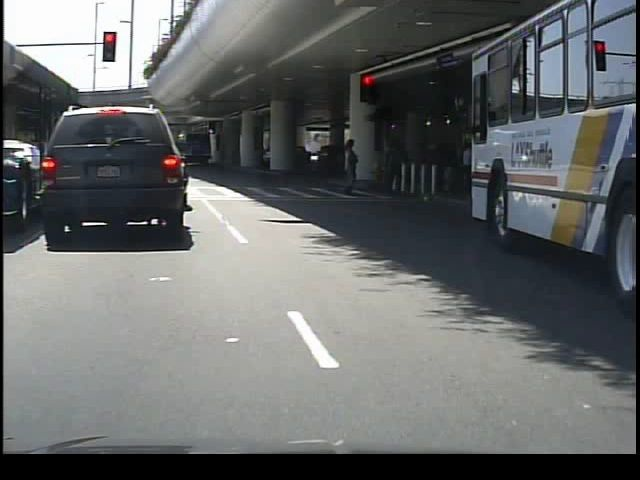person: (334, 136, 365, 199), (383, 139, 409, 194)
